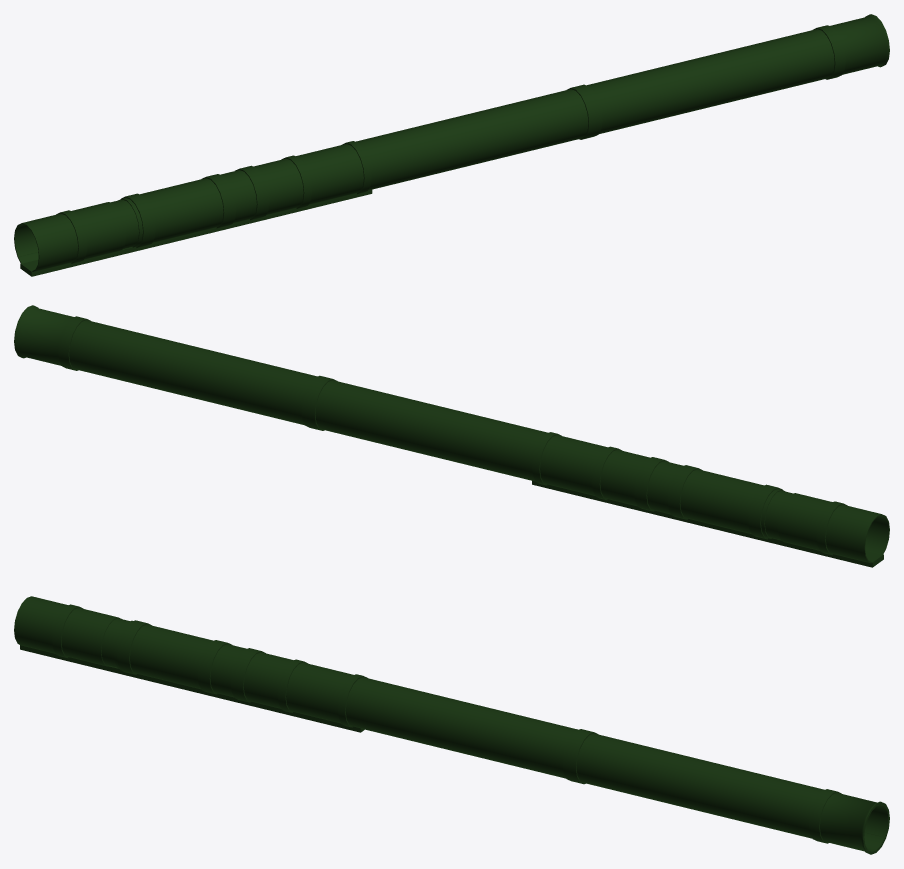
3 renders of one model, top to bottom at view 1: azimuth 30°, elevation 25°; view 2: azimuth 150°, elevation 25°; view 3: azimuth 330°, elevation 25°, orthographic.
Visible parts, largest first — view 1: ТРуба.005; view 2: ТРуба.005; view 3: ТРуба.005.
Part boxes in pixels (left/top/right/bottom): ТРуба.005: left=14, top=14, right=889, bottom=276; ТРуба.005: left=14, top=305, right=889, bottom=567; ТРуба.005: left=14, top=596, right=889, bottom=854.
Size of the model in its own units: 1469 by 80.91 by 80.9.
1 material, 1 textured.
